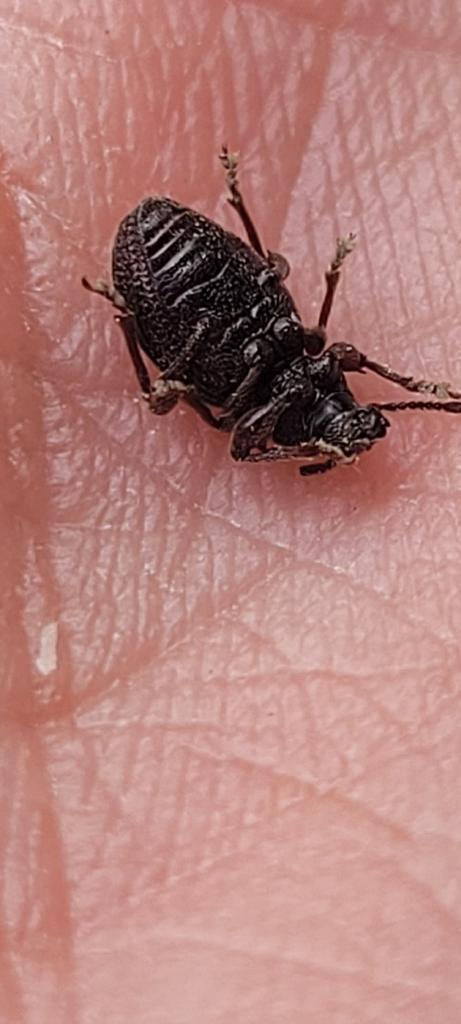weevils: (61, 110, 461, 526)
